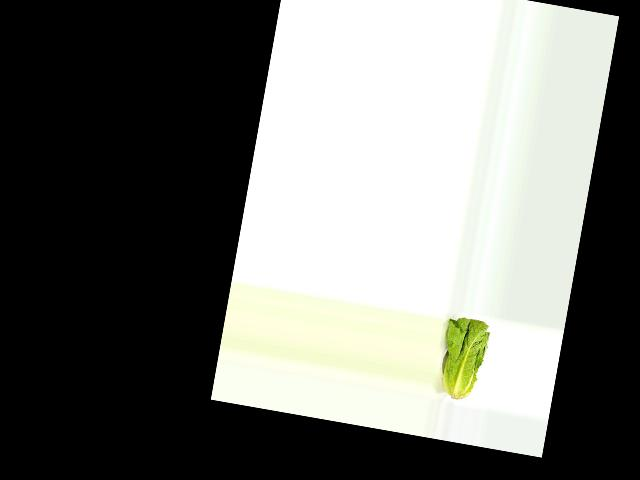lettuce: (434, 314, 493, 404)
